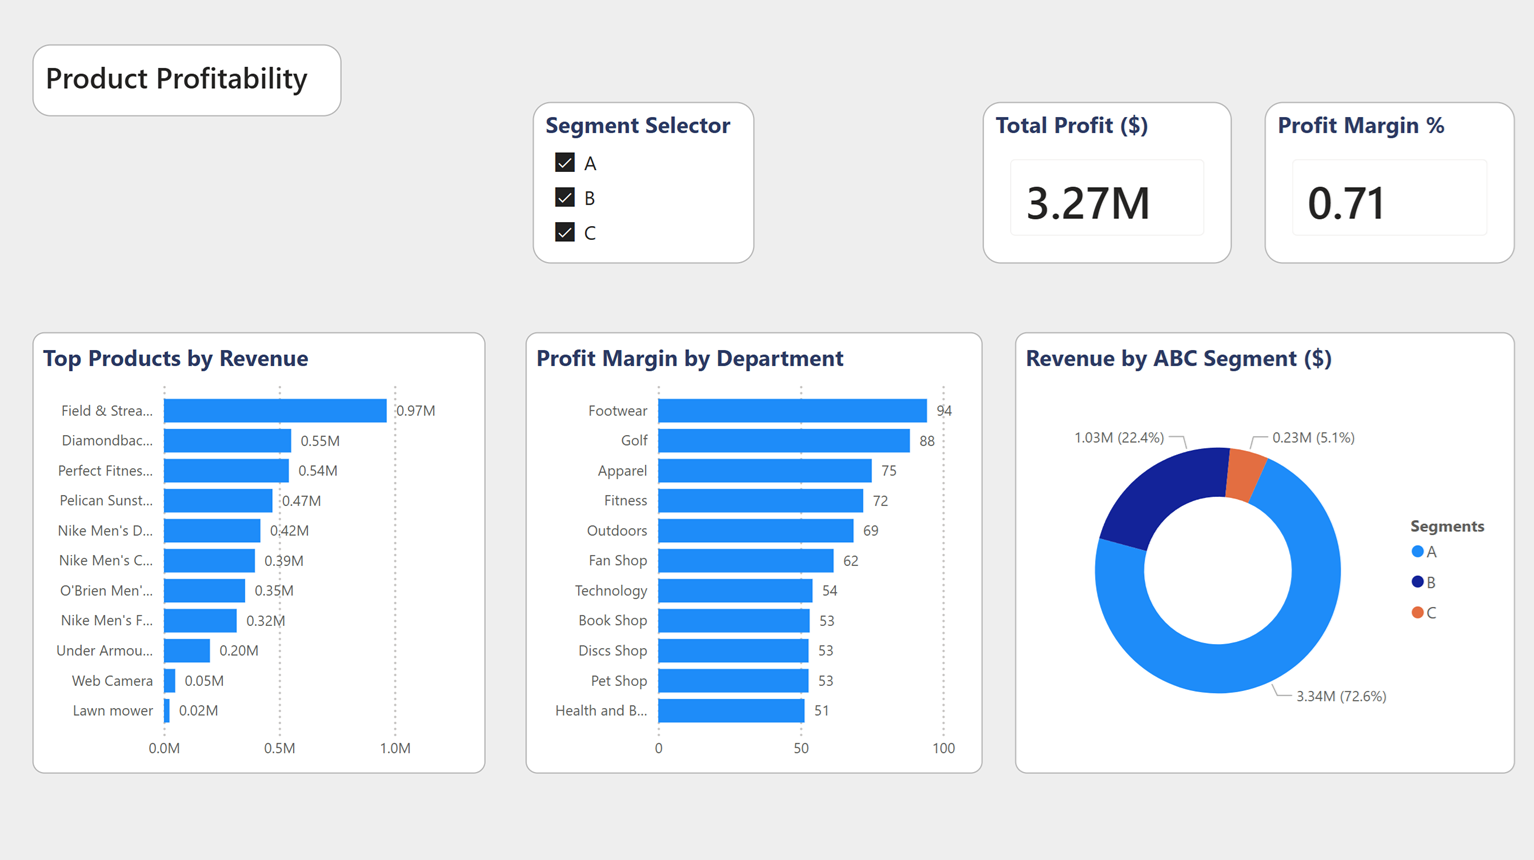

Layout of this report page (visuals, bound fields, positions):
{"tool":"powerbi","page":{"name":"Product Profitability","canvas":[1280,720],"ordinal":1},"visuals":[{"type":"textbox","box":[27.8,37.3,258.5,59.4],"z":0},{"type":"barChart","title":"Top Products by Revenue","fields":{"Category":["gold_abc_segmentation.product_name"],"Y":["Sum(gold_abc_segmentation.total_revenue)"]},"box":[27.8,276.7,378.2,368.6],"z":1000},{"type":"clusteredBarChart","title":"Profit Margin by Department","fields":{"Category":["gold_department_profitability.product_department"],"Y":["Sum(gold_department_profitability.profit_margin_pct)"]},"box":[439.4,276.7,380.1,368.6],"z":2000},{"type":"donutChart","title":"Revenue by ABC Segment ($)","fields":{"Y":["Sum(gold_abc_segmentation.total_revenue)"],"Category":["gold_abc_segmentation.abc_segment"]},"box":[847.3,276.7,416.5,368.6],"z":3000},{"type":"cardVisual","title":"Profit Margin %","fields":{"Data":["gold_sales_fact.Profit Margin"]},"box":[1055,85.2,208.7,135],"z":4000},{"type":"cardVisual","title":"Total Profit ($)","fields":{"Data":["Sum(gold_sales_fact.profit)"]},"box":[819.5,85.2,208.7,135],"z":5000},{"type":"slicer","title":"Segment Selector","fields":{"Values":["gold_abc_segmentation.abc_segment"]},"box":[445.2,85.2,184.8,135],"z":6000}]}

Visuals, with their boxes in screenshot pixels (x1, y1, x2, y2), scaled from the page's 1280x720 canvas onto the 1534x860 screenshot:
textbox: box(33, 45, 343, 116)
"Top Products by Revenue" barChart: box(33, 331, 487, 771)
"Profit Margin by Department" clusteredBarChart: box(527, 331, 982, 771)
"Revenue by ABC Segment ($)" donutChart: box(1015, 331, 1515, 771)
"Profit Margin %" cardVisual: box(1264, 102, 1514, 263)
"Total Profit ($)" cardVisual: box(982, 102, 1232, 263)
"Segment Selector" slicer: box(534, 102, 755, 263)
